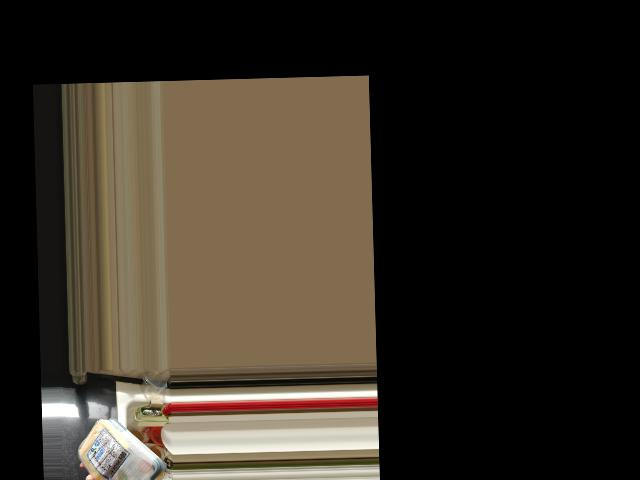cheese: (82, 416, 154, 480)
